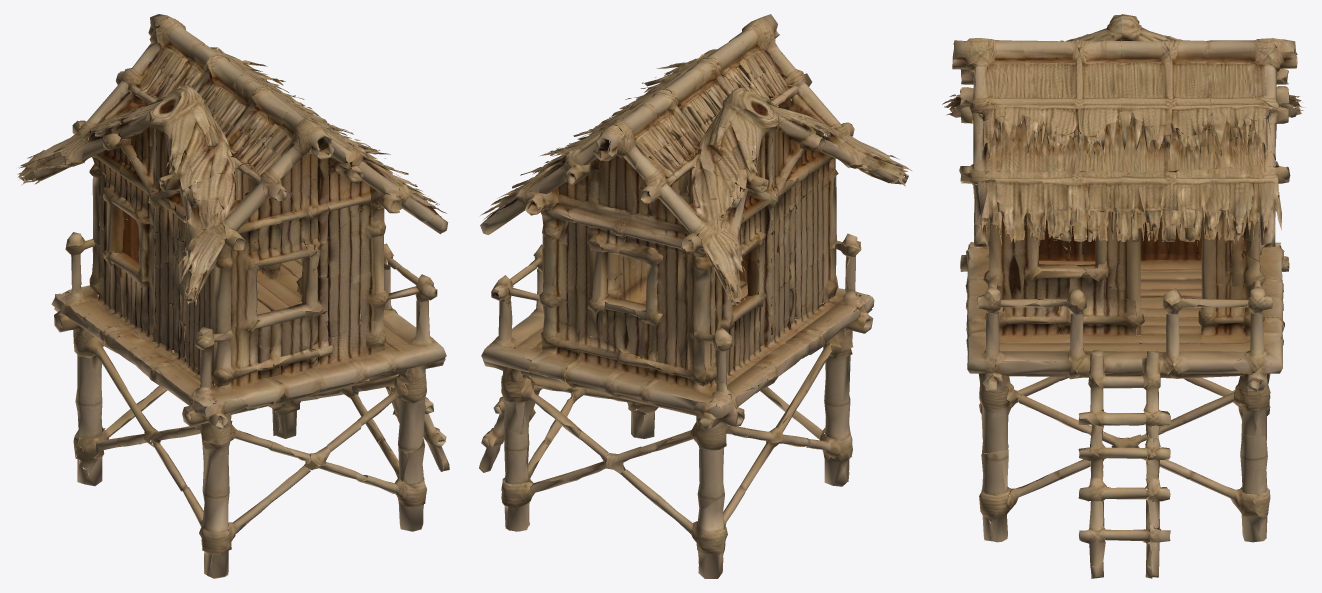
File: house.glb
The picture shows the model from 3 angles, left to right: view 1: azimuth 30°, elevation 25°; view 2: azimuth 150°, elevation 25°; view 3: azimuth 270°, elevation 25°; orthographic projection. The views are drawn at different scales.
Visible parts, largest first — view 1: house-convcol; view 2: house-convcol; view 3: house-convcol.
Part boxes in pixels (<box>): house-convcol: <box>17,14,449,578</box>; house-convcol: <box>479,14,911,578</box>; house-convcol: <box>942,14,1305,578</box>.
Size of the model in its own units: 4.51 by 5.6 by 4.17.
1 material, 1 textured.
